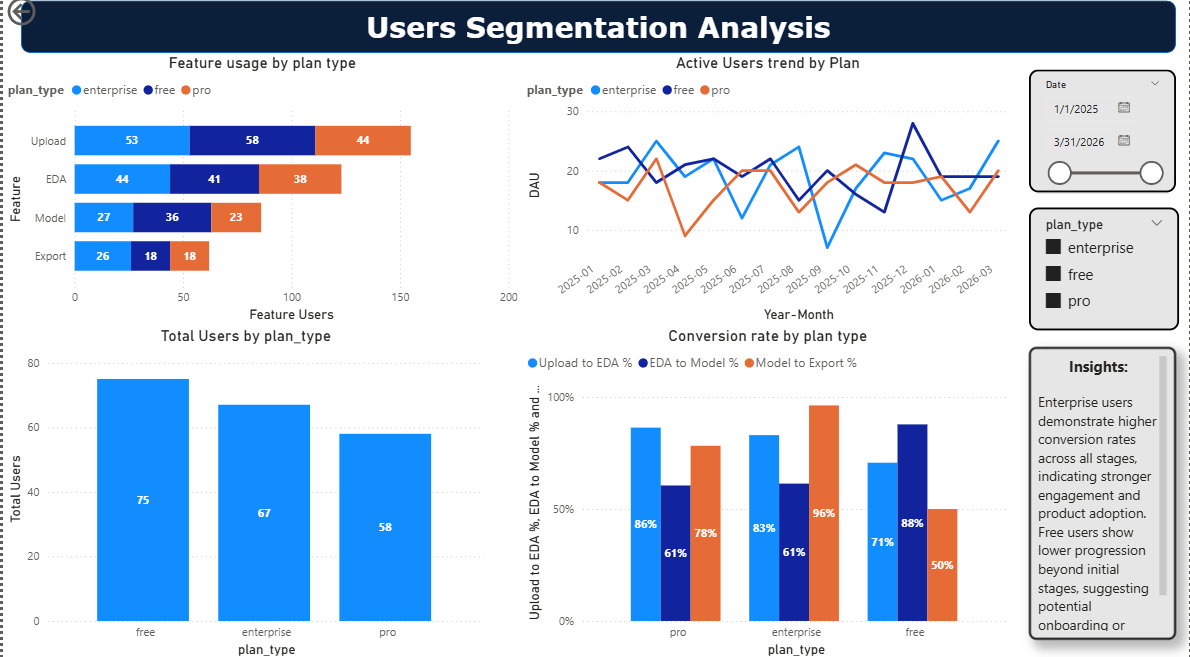

What the dashboard file says about the page in this screenshot:
{"tool":"powerbi","page":{"name":"User Segmentation","canvas":[1280,720],"ordinal":2},"visuals":[{"type":"shape","box":[19.4,8.1,1246.8,56.7],"z":0},{"type":"textbox","box":[1107.6,382.1,158.7,315.7],"z":1000},{"type":"actionButton","box":[0,0,100,40],"z":2000},{"type":"clusteredColumnChart","fields":{"Category":["users.plan_type"],"Y":["formula.Total Users"]},"box":[0,359.5,524.6,361.1],"z":3000},{"type":"clusteredColumnChart","title":"Conversion rate by plan type","fields":{"Category":["users.plan_type"],"Y":["formula.Upload to EDA %","formula.EDA to Model %","formula.Model to Export %"]},"box":[560.3,359.5,531.1,361.1],"z":4000},{"type":"lineChart","title":"Active Users trend by Plan","fields":{"Category":["Date.Year-Month"],"Y":["formula.DAU"],"Series":["users.plan_type"]},"box":[560.3,64.8,531.1,294.7],"z":5000},{"type":"barChart","title":"Feature usage by plan type","fields":{"Y":["Feature Table.Feature Users"],"Category":["Feature Table.Feature"],"Series":["users.plan_type"]},"box":[0,64.8,560.3,294.7],"z":6000},{"type":"slicer","fields":{"Values":["Date.Date"]},"box":[1107.6,82.6,158.7,132.8],"z":7000},{"type":"slicer","fields":{"Values":["users.plan_type"]},"box":[1107.6,231.5,161.9,132.8],"z":8000}]}

Visuals, with their boxes in screenshot pixels (x1, y1, x2, y2), scaled from the page's 1280x720 canvas onto the 1190x657 screenshot:
shape: 18:7:1177:59
textbox: 1030:349:1177:637
actionButton: 0:0:93:36
clusteredColumnChart - users.plan_type x formula.Total Users: 0:328:488:656
"Conversion rate by plan type" clusteredColumnChart: 521:328:1015:656
"Active Users trend by Plan" lineChart: 521:59:1015:328
"Feature usage by plan type" barChart: 0:59:521:328
slicer - Date.Date: 1030:75:1177:197
slicer - users.plan_type: 1030:211:1180:332
